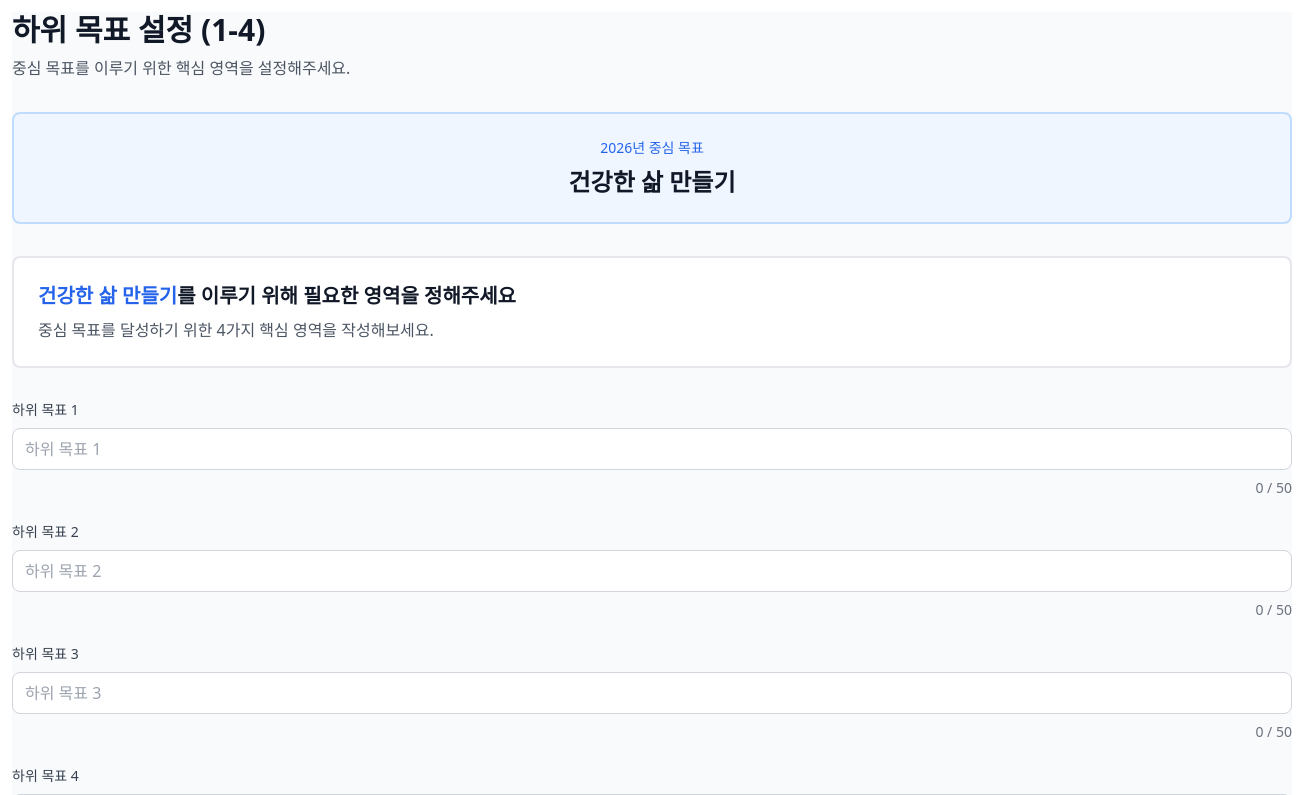
Scenario: Day4SubGoals › Sub-Goals Input Fields › should display character count for each field
In the field with placeholder "하위 목표 1": (652, 449) [12, 428, 1292, 470], type "규칙적인 운동"
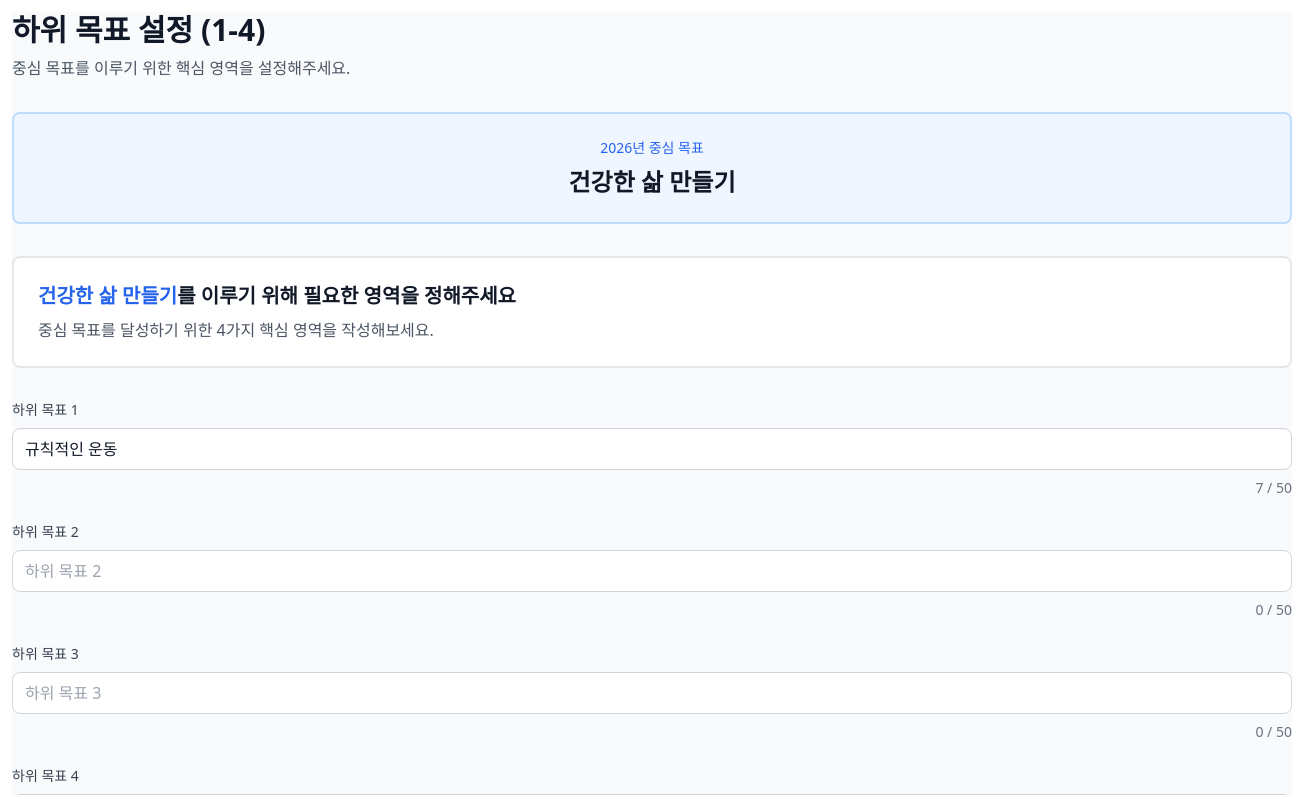
Check: the text "7 / 50" is shown, box [1256, 478, 1292, 497]
